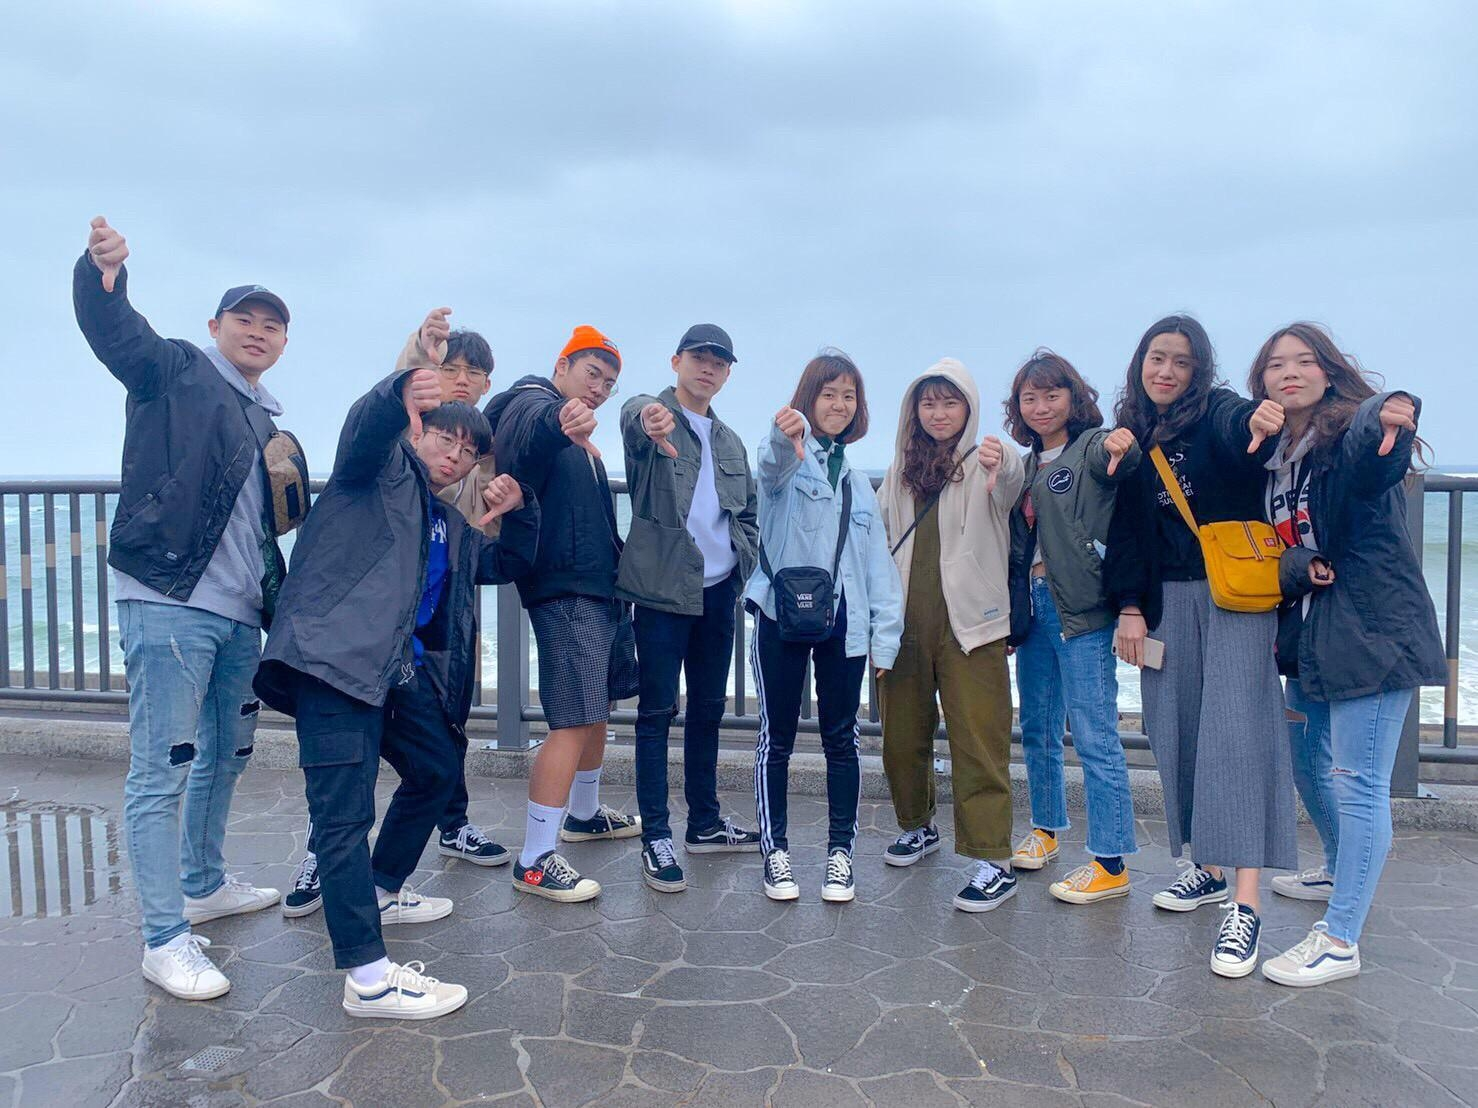people: (108, 277, 271, 982), (1252, 319, 1408, 988), (308, 400, 475, 1015), (315, 334, 504, 875), (1125, 317, 1275, 963), (492, 327, 636, 902), (883, 363, 1017, 913), (627, 325, 756, 894), (1006, 350, 1133, 913), (765, 350, 879, 913)
